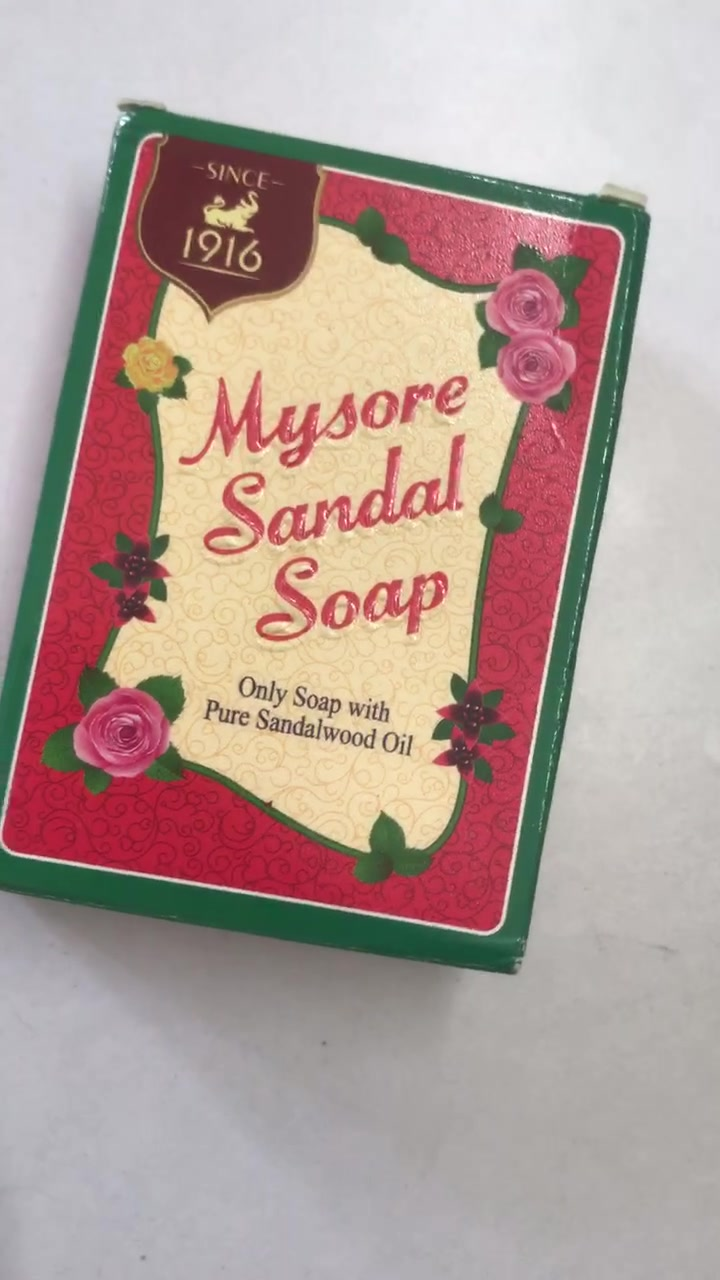mysore sandal soap: (5, 107, 648, 988)
